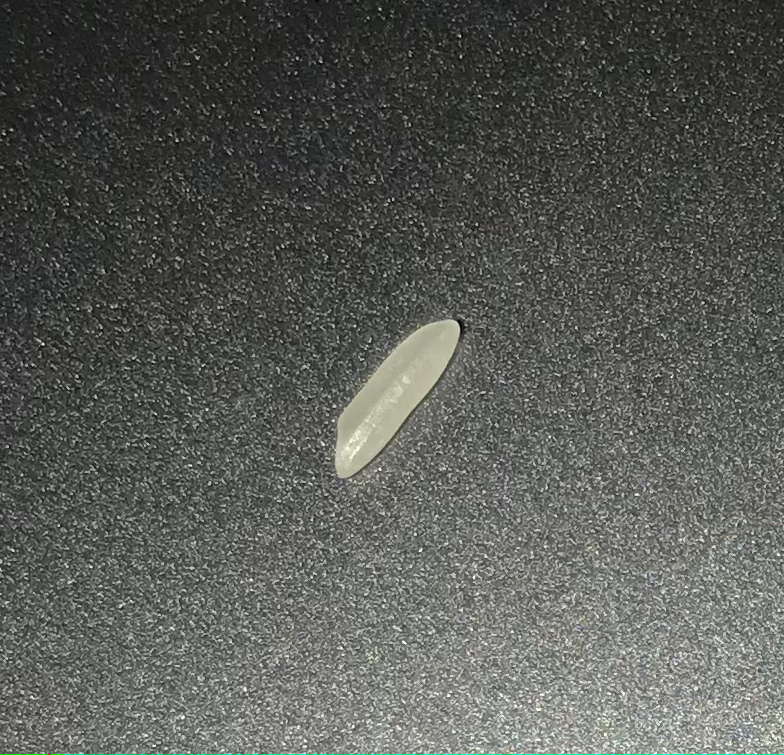Gao Long Lai: (324, 301, 478, 493)
